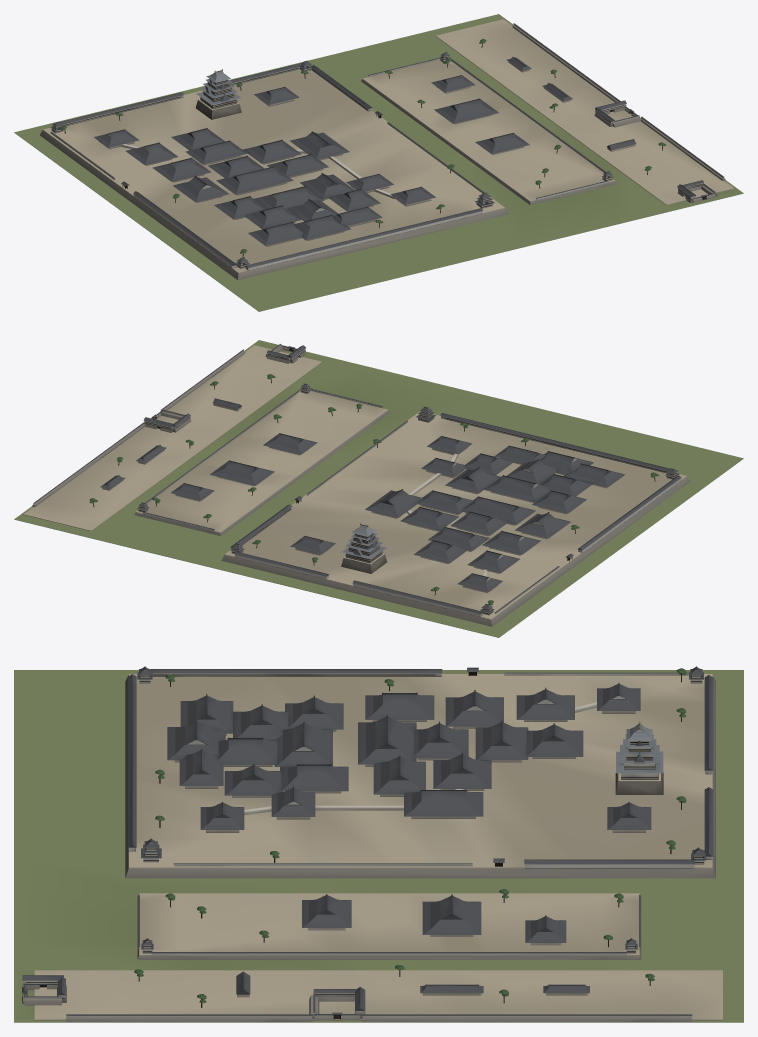
Rendered from edo-castle-1610.glb.
3 renders of one model, top to bottom at view 1: azimuth 30°, elevation 25°; view 2: azimuth 150°, elevation 25°; view 3: azimuth 270°, elevation 25°, orthographic. The views are drawn at different scales.
Parts seen in each view (by area): view 1: p0_ishigaki, p2_palaces, p1_walls, p3_keep; view 2: p0_ishigaki, p2_palaces, p1_walls, p3_keep; view 3: p0_ishigaki, p2_palaces, p1_walls, p3_keep.
Boxes of the visible parts, x1,y1,x2,y2 form: p0_ishigaki: [14, 14, 743, 311]; p2_palaces: [61, 39, 665, 257]; p1_walls: [50, 23, 725, 270]; p3_keep: [196, 69, 240, 108]; p0_ishigaki: [14, 340, 743, 637]; p2_palaces: [89, 374, 658, 605]; p1_walls: [32, 344, 681, 616]; p3_keep: [341, 523, 386, 563]; p0_ishigaki: [14, 670, 743, 1022]; p2_palaces: [134, 668, 686, 1007]; p1_walls: [22, 666, 713, 1021]; p3_keep: [616, 720, 663, 779].
Bounding box in the file's own units: 800 × 74.39 × 700.
